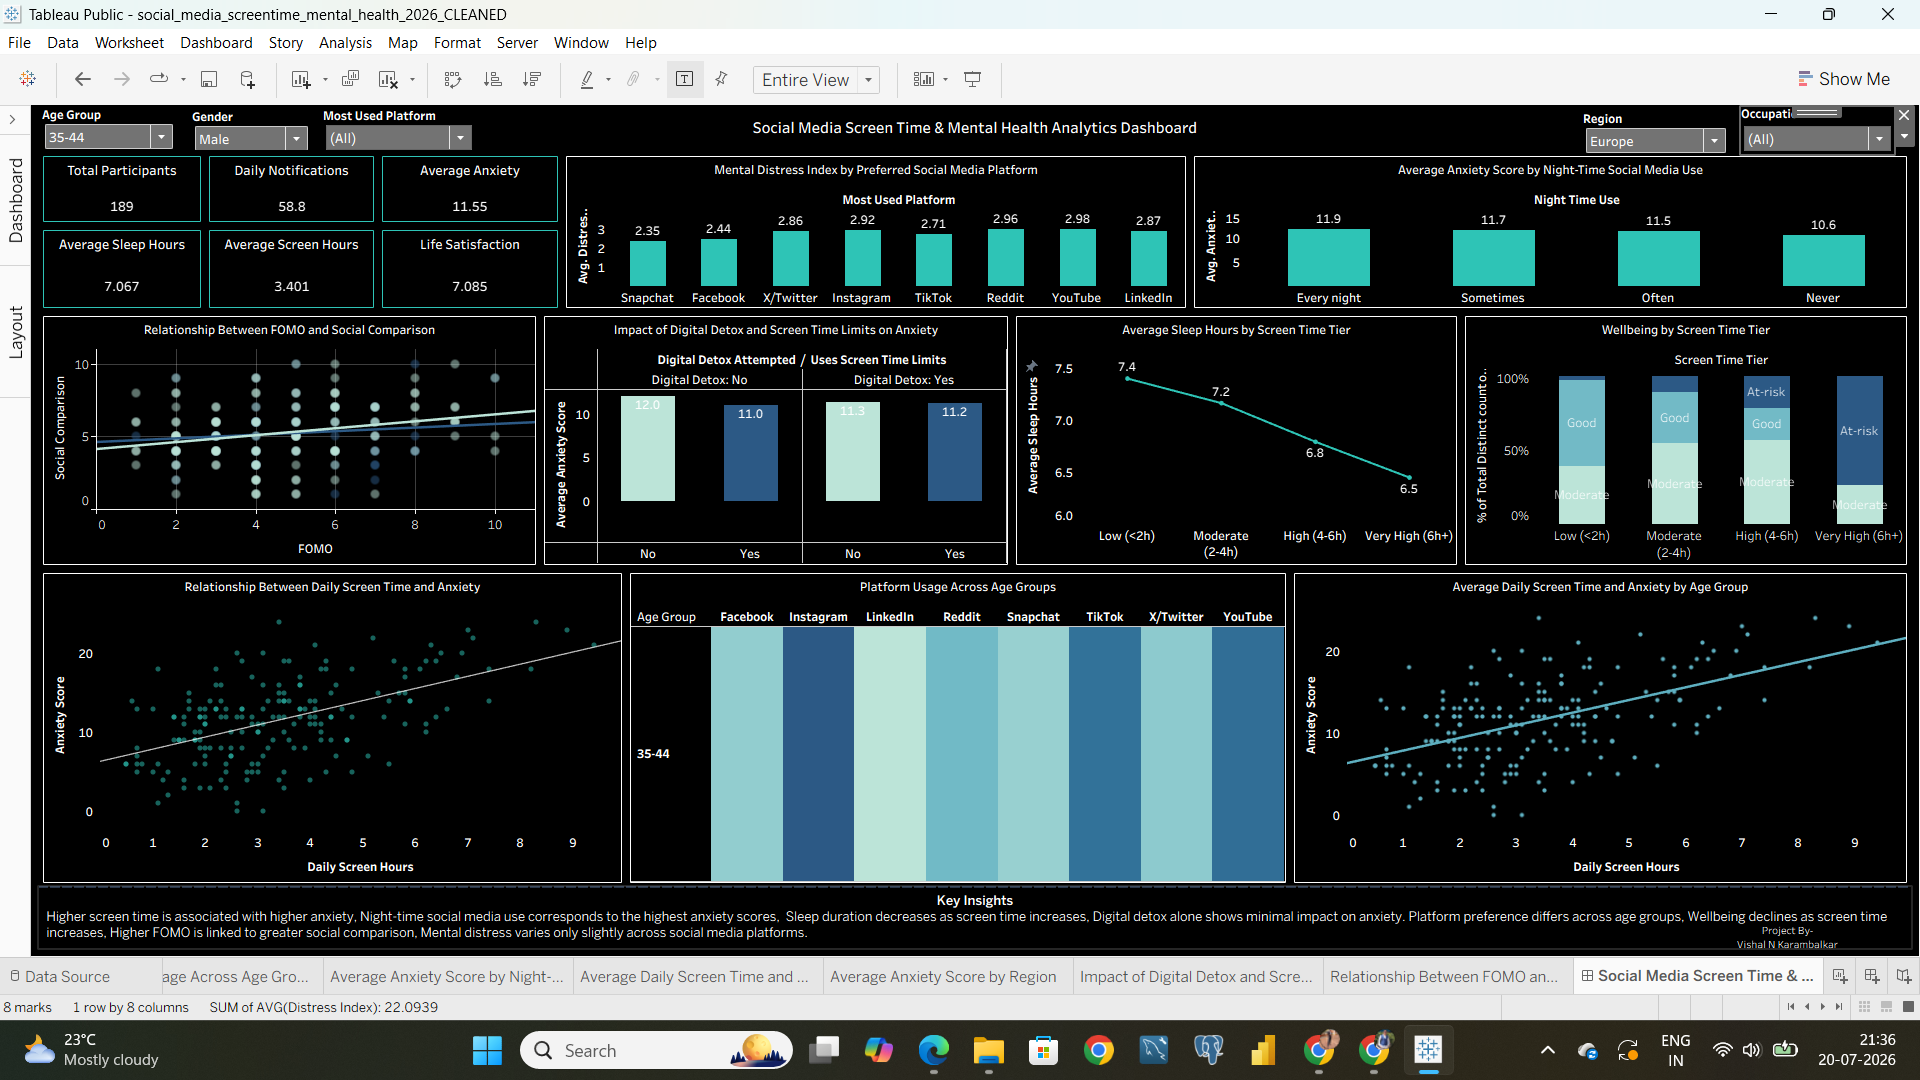

Layout of this report page (visuals, bound fields, positions):
{"tool":"tableau","page":{"name":"Social Media Screen Time & Mental Health Analytics Dashboard","canvas":[1000,1000],"units":"permille","ordinal":0},"visuals":[{"type":"filter","title":"Mental Distress Index by Preferred Social Media Platform","param":"[federated.1sczvrt1bvneyr1fstjg40nrgwpp].[none:occupation:nk]","box":[905.7,0,80.8,57.6]},{"type":"filter","title":"Mental Distress Index by Preferred Social Media Platform","param":"[federated.1sczvrt1bvneyr1fstjg40nrgwpp].[none:age_group:nk]","box":[5.8,1.2,71,51.7]},{"type":"filter","title":"Mental Distress Index by Preferred Social Media Platform","param":"[federated.1sczvrt1bvneyr1fstjg40nrgwpp].[none:most_used_platform:nk]","box":[154.7,2.4,80.3,51.7]},{"type":"filter","title":"Mental Distress Index by Preferred Social Media Platform","param":"[federated.1sczvrt1bvneyr1fstjg40nrgwpp].[none:gender:nk]","box":[85.5,3.5,63.3,49.4]},{"type":"filter","title":"Mental Distress Index by Preferred Social Media Platform","param":"[federated.1sczvrt1bvneyr1fstjg40nrgwpp].[none:region:nk]","box":[821.9,5.9,77.3,50.5]},{"type":"text","box":[4.2,9.4,991.5,34.1]},{"type":"worksheet","title":"Total Participants","mark":"Automatic","box":[4.2,55.2,87.9,86.8]},{"type":"worksheet","title":"Daily Notifications","mark":"Automatic","box":[92.1,55.2,91.5,86.8]},{"type":"worksheet","title":"Average Anxiety","mark":"Automatic","box":[183.6,55.2,97.6,86.8]},{"type":"worksheet","title":"Mental Distress Index by Preferred Social Media Platform","mark":"Automatic","rows":["distress_index"],"cols":["most_used_platform"],"box":[281.2,55.2,332.8,188.2]},{"type":"worksheet","title":"Average Anxiety Score by Night-Time Social Media Use","mark":"Automatic","rows":["anxiety_score_0to27"],"cols":["night_time_use"],"box":[614,55.2,381.8,188.2]},{"type":"worksheet","title":"Average Sleep Hours","mark":"Automatic","box":[4.2,142.1,87.9,101.3]},{"type":"worksheet","title":"Average Screen Hours","mark":"Automatic","box":[92.1,142.1,91.5,101.3]},{"type":"worksheet","title":"Life Satisfaction","mark":"Automatic","box":[183.6,142.1,97.6,101.3]},{"type":"worksheet","title":"Relationship Between FOMO and Social Comparison","mark":"Circle","rows":["social_comparison_1to10"],"cols":["fomo_1to10"],"box":[4.2,243.4,265.5,301.8]},{"type":"worksheet","title":"Impact of Digital Detox and Screen Time Limits on Anxiety","mark":"Bar","rows":["anxiety_score_0to27"],"cols":["digital_detox_attempted","uses_screen_time_limits"],"box":[269.8,243.4,249.8,301.8]},{"type":"worksheet","title":"Average Sleep Hours by Screen Time Tier","mark":"Line","rows":["avg_sleep_hours"],"cols":["screen_time_tier"],"box":[519.5,243.4,238.1,301.8]},{"type":"worksheet","title":"Wellbeing by Screen Time Tier","mark":"Bar","cols":["screen_time_tier"],"box":[757.6,243.4,238.1,301.8]},{"type":"worksheet","title":"Relationship Between Daily Screen Time and Anxiety","mark":"Circle","rows":["anxiety_score_0to27"],"cols":["daily_screen_hours"],"box":[4.2,545.2,310.7,373.2]},{"type":"worksheet","title":"Platform Usage Across Age Groups","mark":"Automatic","rows":["age_group"],"cols":["most_used_platform"],"box":[314.9,545.2,351.8,373.2]},{"type":"worksheet","title":"Average Daily Screen Time and Anxiety by Age Group","mark":"Circle","rows":["anxiety_score_0to27"],"cols":["daily_screen_hours"],"box":[666.8,545.2,329,373.2]},{"type":"text","box":[4.2,918.4,991.5,72.2]},{"type":"text","box":[885.1,956.5,90.6,42.3]}]}

Visuals, with their boxes on the dashboard's canvas, which has no fixed pixel size, in thousandths of its width and height (x1, y1, x2, y2). These are canvas units, not pixel positions in the 1920x1080 screenshot, which may show the page scaled, cropped or inside an application window:
"Mental Distress Index by Preferred Social Media Platform" filter: select_region(906, 0, 986, 58)
"Mental Distress Index by Preferred Social Media Platform" filter: select_region(6, 1, 77, 53)
"Mental Distress Index by Preferred Social Media Platform" filter: select_region(155, 2, 235, 54)
"Mental Distress Index by Preferred Social Media Platform" filter: select_region(86, 4, 149, 53)
"Mental Distress Index by Preferred Social Media Platform" filter: select_region(822, 6, 899, 56)
text: select_region(4, 9, 996, 44)
"Total Participants" worksheet: select_region(4, 55, 92, 142)
"Daily Notifications" worksheet: select_region(92, 55, 184, 142)
"Average Anxiety" worksheet: select_region(184, 55, 281, 142)
"Mental Distress Index by Preferred Social Media Platform" worksheet: select_region(281, 55, 614, 243)
"Average Anxiety Score by Night-Time Social Media Use" worksheet: select_region(614, 55, 996, 243)
"Average Sleep Hours" worksheet: select_region(4, 142, 92, 243)
"Average Screen Hours" worksheet: select_region(92, 142, 184, 243)
"Life Satisfaction" worksheet: select_region(184, 142, 281, 243)
"Relationship Between FOMO and Social Comparison" worksheet (Circle marks): select_region(4, 243, 270, 545)
"Impact of Digital Detox and Screen Time Limits on Anxiety" worksheet (Bar marks): select_region(270, 243, 520, 545)
"Average Sleep Hours by Screen Time Tier" worksheet (Line marks): select_region(520, 243, 758, 545)
"Wellbeing by Screen Time Tier" worksheet (Bar marks): select_region(758, 243, 996, 545)
"Relationship Between Daily Screen Time and Anxiety" worksheet (Circle marks): select_region(4, 545, 315, 918)
"Platform Usage Across Age Groups" worksheet: select_region(315, 545, 667, 918)
"Average Daily Screen Time and Anxiety by Age Group" worksheet (Circle marks): select_region(667, 545, 996, 918)
text: select_region(4, 918, 996, 991)
text: select_region(885, 956, 976, 999)
